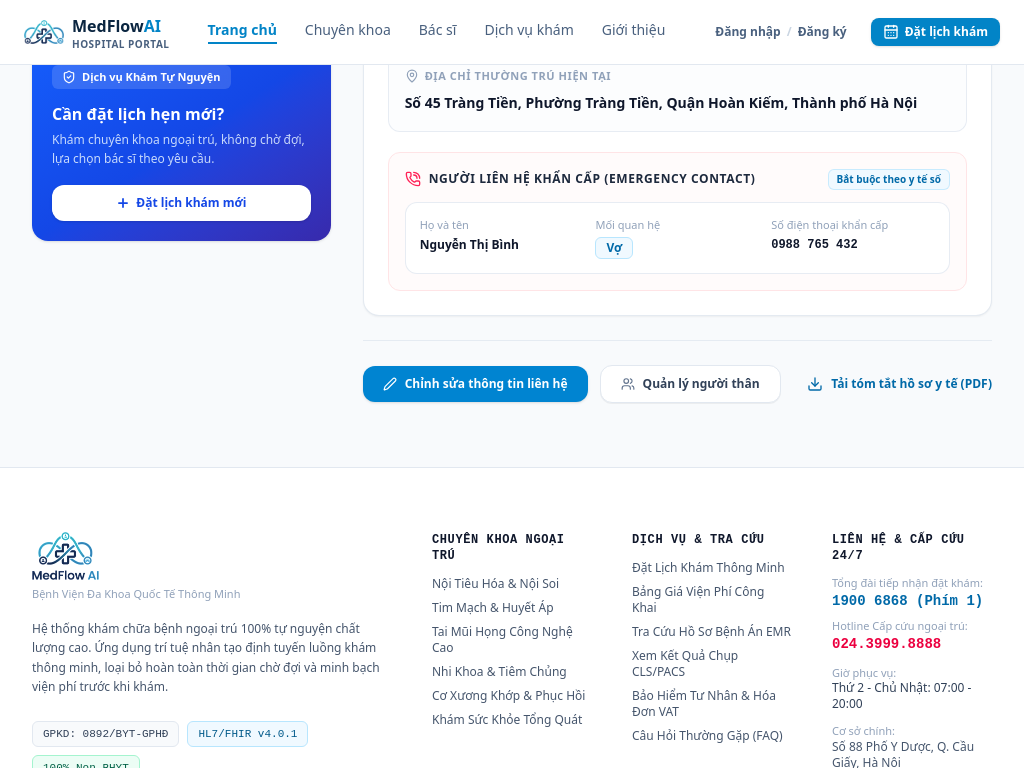
PatientProfilePage › mở modal cập nhật thông tin liên hệ khi bấm chỉnh sửa
This screenshot has width=1024, height=768.
(page scrolled)
Click the button "Chỉnh sửa thông tin liên hệ" at x=475, y=384, box [363,366,588,402]
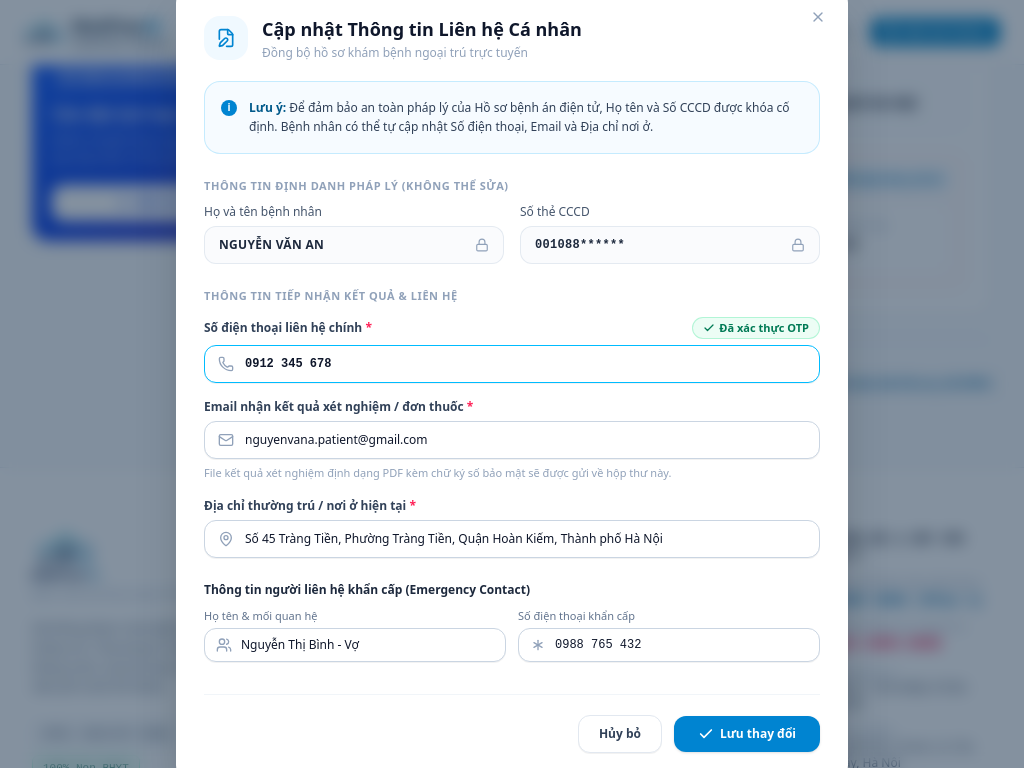
Now the heading "Cập nhật Thông tin Liên hệ Cá nhân" is shown, box [262,15,582,43]
Now the heading "Thông tin định danh pháp lý (Không thể sửa)" is shown, box [204,178,509,193]
Now the heading "Thông tin tiếp nhận kết quả & liên hệ" is shown, box [204,288,458,303]
